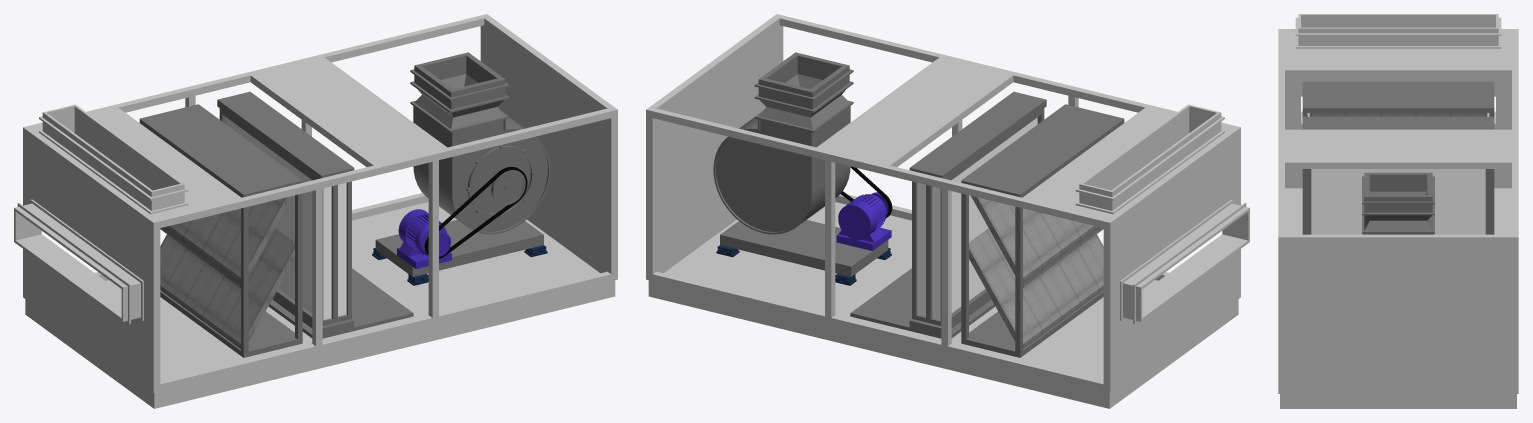
Rendered from air_handling_unit.glb.
3 views of the same model, side by side, from view 1: azimuth 30°, elevation 25°; view 2: azimuth 150°, elevation 25°; view 3: azimuth 270°, elevation 25° (orthographic). The views are drawn at different scales.
Parts seen in each view (by area): view 1: body, ??, filter_case_2, fliter_case, filter_3, filter_4, fliter_1, pedestal, l_ped, motor, filter_2, belt; view 2: body, ??, filter_case_2, fliter_case, filter_3, filter_4, pedestal, fliter_1, l_ped, motor, filter_2; view 3: body, filter_2, filter_case_2, ??, fliter_case, filter_4.
Part boxes in pixels (bbox=[...]): body: bbox=[14, 14, 617, 408]; ??: bbox=[410, 52, 550, 234]; filter_case_2: bbox=[139, 104, 302, 357]; fliter_case: bbox=[217, 91, 354, 334]; filter_3: bbox=[160, 228, 294, 348]; filter_4: bbox=[160, 196, 292, 287]; fliter_1: bbox=[226, 117, 331, 319]; pedestal: bbox=[375, 220, 543, 276]; l_ped: bbox=[268, 268, 413, 338]; motor: bbox=[397, 209, 451, 268]; filter_2: bbox=[338, 183, 346, 316]; belt: bbox=[424, 167, 527, 258]; body: bbox=[646, 14, 1249, 408]; ??: bbox=[713, 52, 853, 234]; filter_case_2: bbox=[961, 104, 1124, 357]; fliter_case: bbox=[909, 91, 1046, 334]; filter_3: bbox=[969, 228, 1103, 348]; filter_4: bbox=[971, 196, 1103, 287]; pedestal: bbox=[720, 220, 888, 276]; fliter_1: bbox=[932, 117, 1037, 319]; l_ped: bbox=[850, 268, 995, 338]; motor: bbox=[836, 192, 891, 250]; filter_2: bbox=[917, 183, 925, 316]; body: bbox=[1278, 14, 1518, 408]; filter_2: bbox=[1311, 169, 1485, 234]; filter_case_2: bbox=[1302, 81, 1494, 234]; ??: bbox=[1362, 172, 1434, 234]; fliter_case: bbox=[1302, 116, 1494, 234]; filter_4: bbox=[1309, 113, 1487, 116].
Size of the model in its own units: 6.51 by 2.67 by 3.05.
7 materials, 1 textured.
